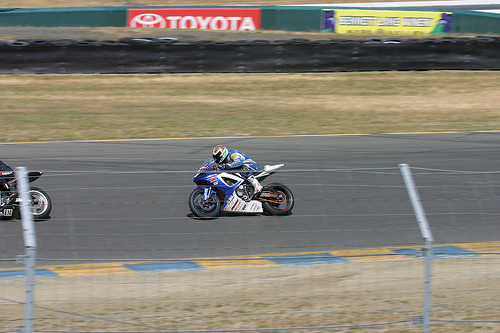helmet: (213, 145, 227, 158)
